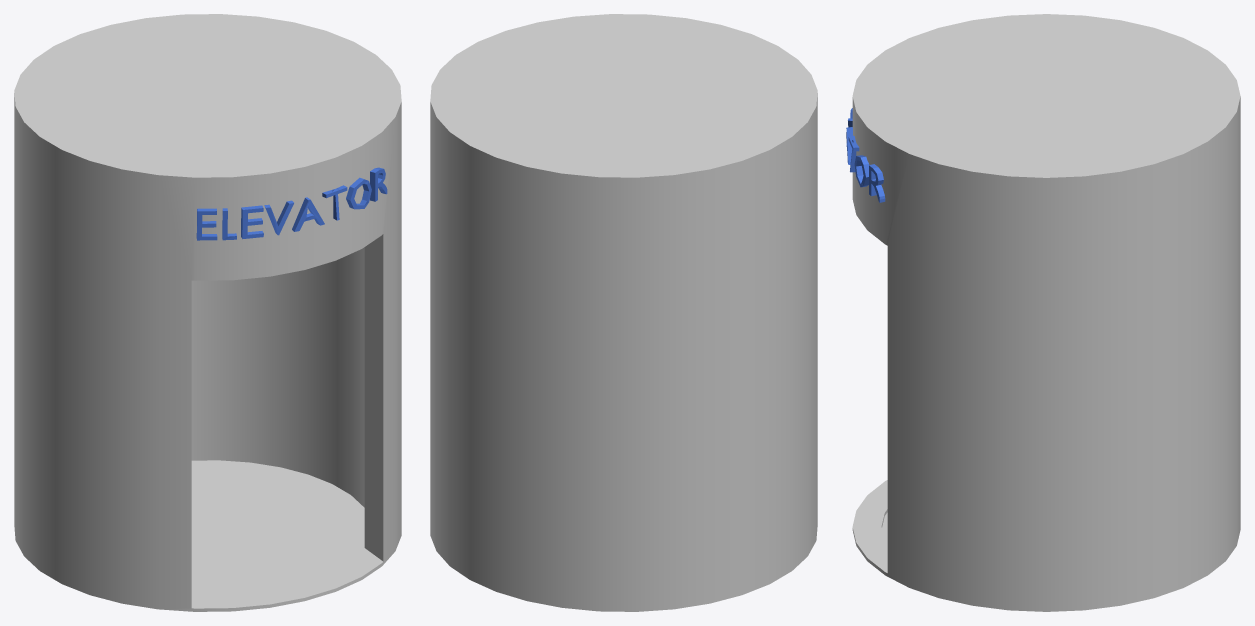
Rendered from m_elevator.fbx.
3 views of the same model, side by side, from view 1: azimuth 30°, elevation 25°; view 2: azimuth 150°, elevation 25°; view 3: azimuth 270°, elevation 25° (orthographic).
Parts seen in each view (by area): view 1: Cylinder, Text; view 2: Cylinder; view 3: Cylinder, Text.
Part boxes in pixels (x1,y1,x2,y2): Cylinder: (14, 14, 401, 611); Text: (196, 167, 387, 240); Cylinder: (430, 14, 817, 611); Cylinder: (852, 14, 1240, 611); Text: (846, 108, 885, 202).
Size of the model in its own units: 200 by 247 by 203.
